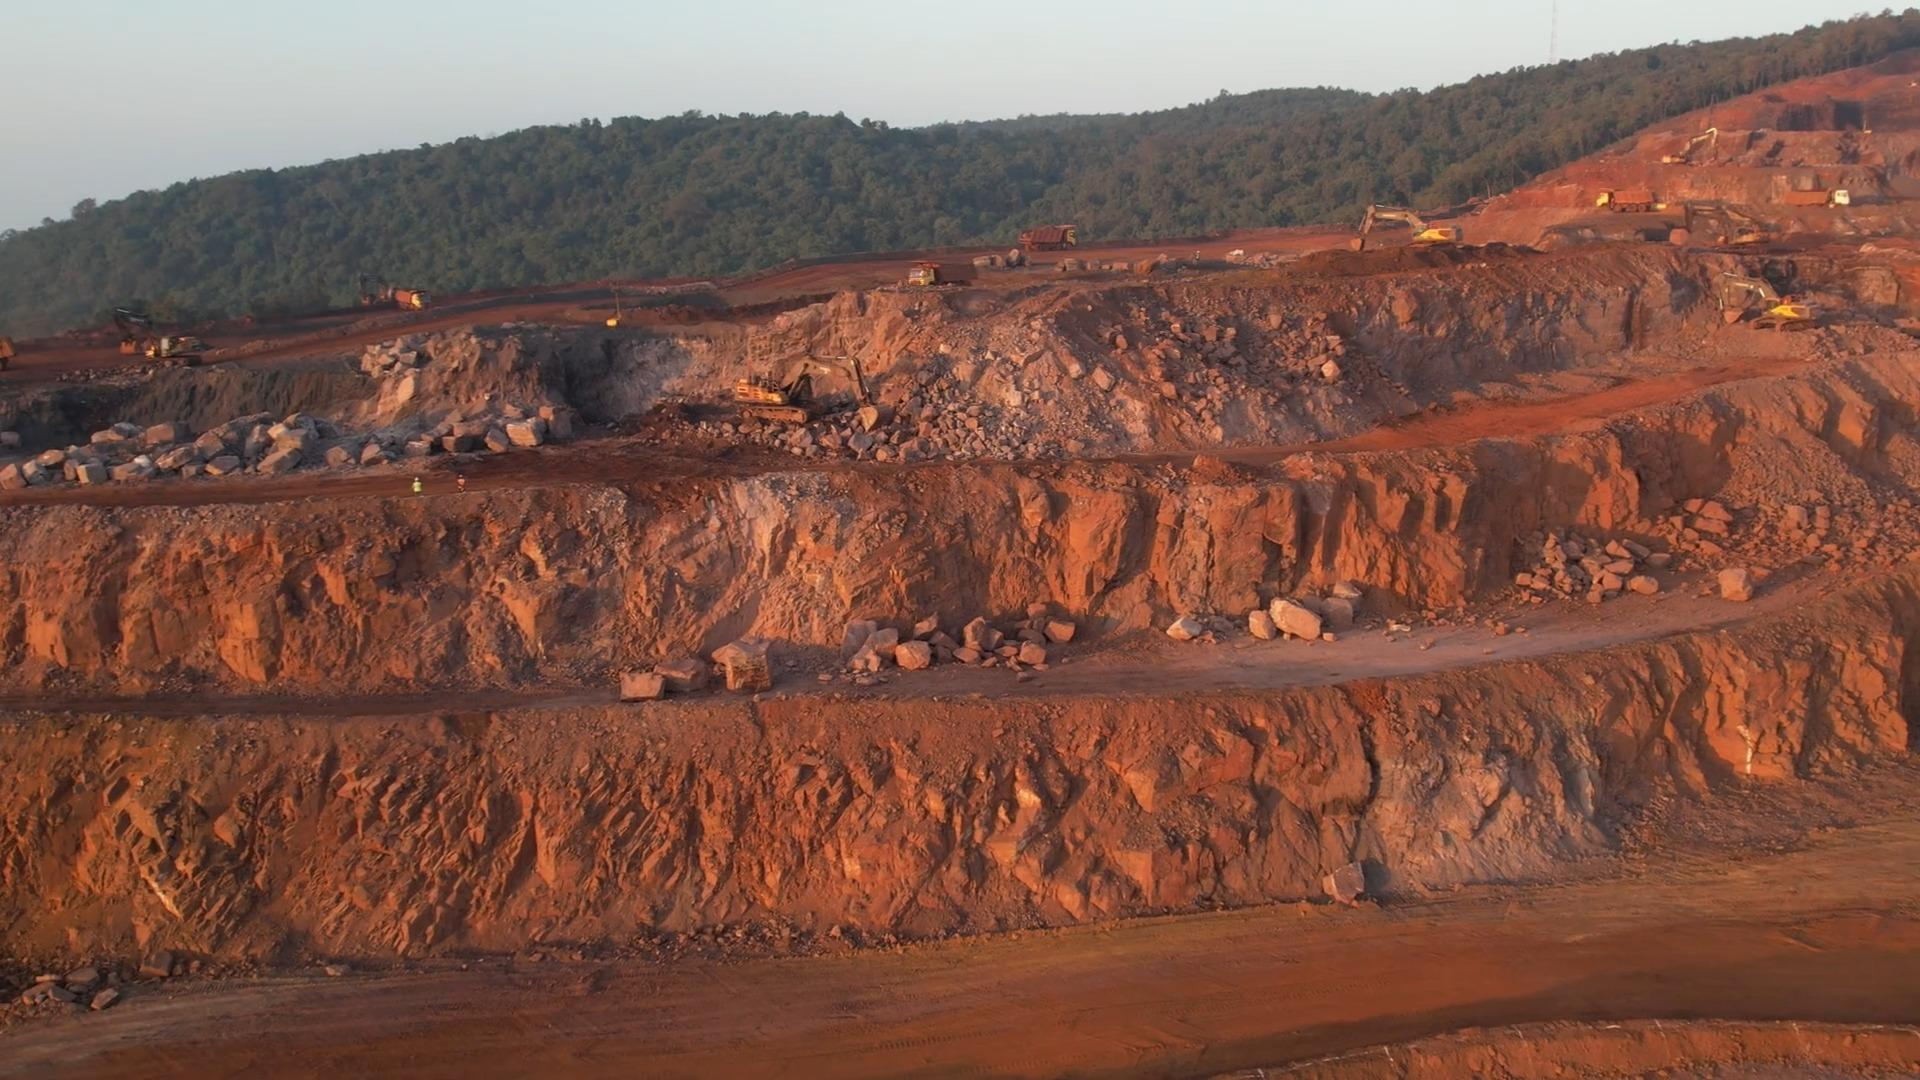excavator: (735, 355, 875, 427), (110, 305, 206, 372), (1720, 272, 1821, 331), (1352, 203, 1460, 246)
